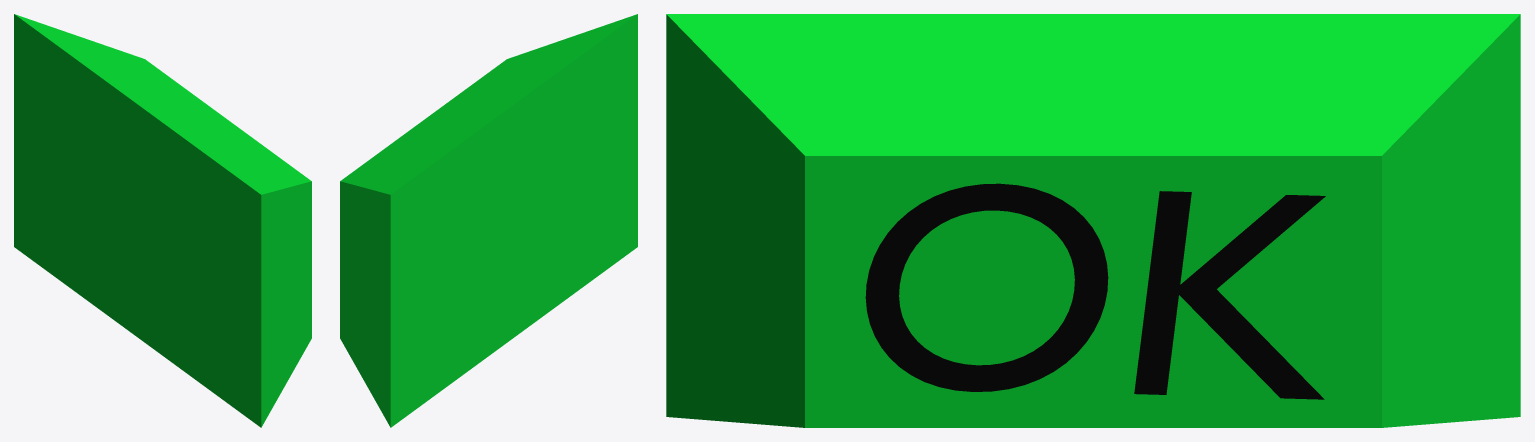
File: okbutton.glb
3 views of the same model, side by side, from view 1: azimuth 30°, elevation 25°; view 2: azimuth 150°, elevation 25°; view 3: azimuth 270°, elevation 25° (orthographic). The views are drawn at different scales.
Parts seen in each view (by area): view 1: Numpad0.001; view 2: Numpad0.001; view 3: Numpad0.001, Num9.001.
Boxes of the visible parts, x1,y1,x2,y2 form: Numpad0.001: (14,14,311,427); Numpad0.001: (340,14,637,427); Numpad0.001: (666,14,1520,427); Num9.001: (865,183,1325,399).
Size of the model in its own units: 0.108 by 0.2567 by 0.4934.
